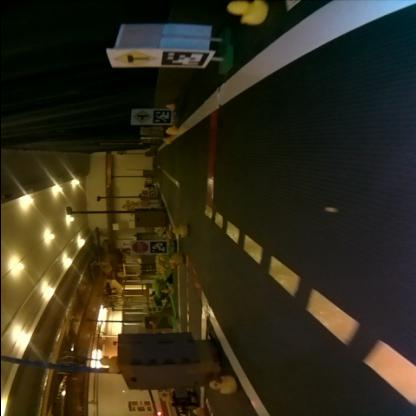Duckie: (226, 2, 266, 26), (209, 377, 235, 394), (99, 357, 116, 373), (172, 226, 186, 236), (170, 256, 182, 264), (166, 127, 174, 133), (164, 263, 172, 269), (164, 105, 172, 110)
Intersection sign: (112, 51, 156, 67), (132, 110, 150, 124)
QR code: (160, 52, 209, 68), (151, 111, 170, 124), (148, 243, 164, 254)
Stop sign: (130, 242, 146, 254)
